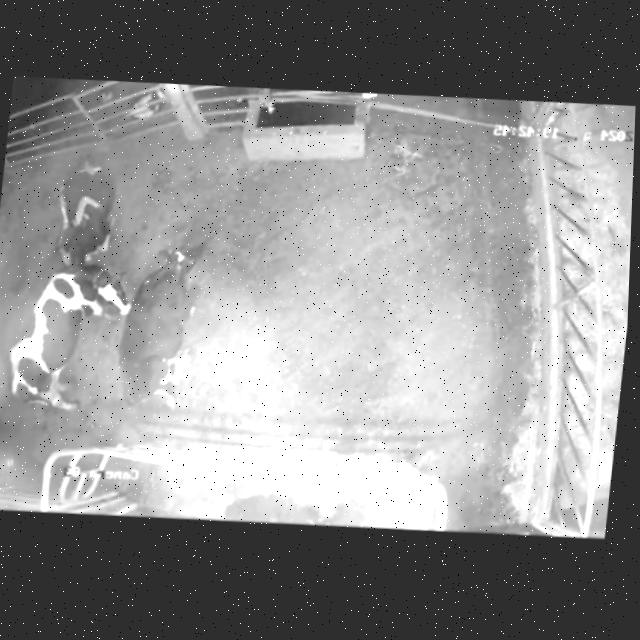lay: (99, 227, 229, 435), (0, 254, 132, 429), (18, 145, 124, 269)
